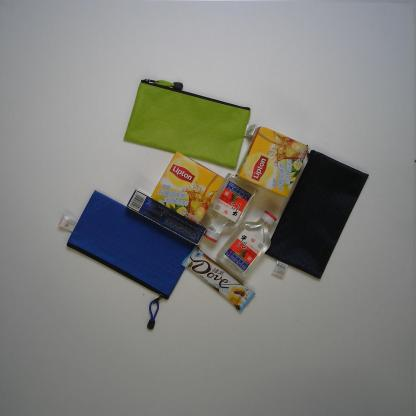Alcohol: (216, 209, 278, 282), (204, 172, 260, 244)
Chocolate: (181, 245, 256, 314)
Instant Drink: (150, 151, 224, 226), (235, 126, 309, 198)
Personal Hygiene: (126, 187, 208, 245)
Stationery: (58, 190, 198, 330), (263, 144, 369, 281), (123, 78, 252, 168)
